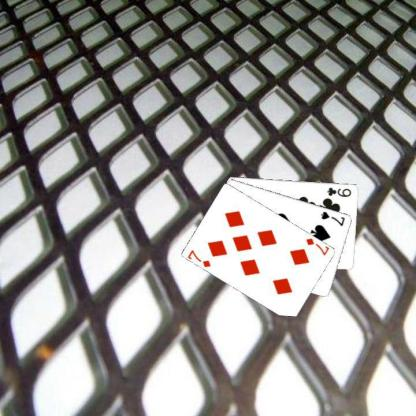7D: (303, 235, 330, 257), (186, 247, 213, 268)
7S: (318, 209, 346, 227)
9C: (325, 185, 352, 197)
